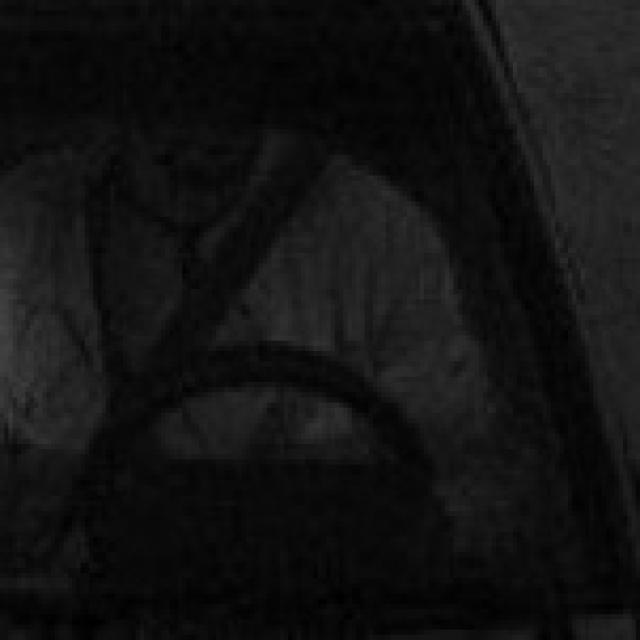Seatbelt: (102, 67, 394, 418)
